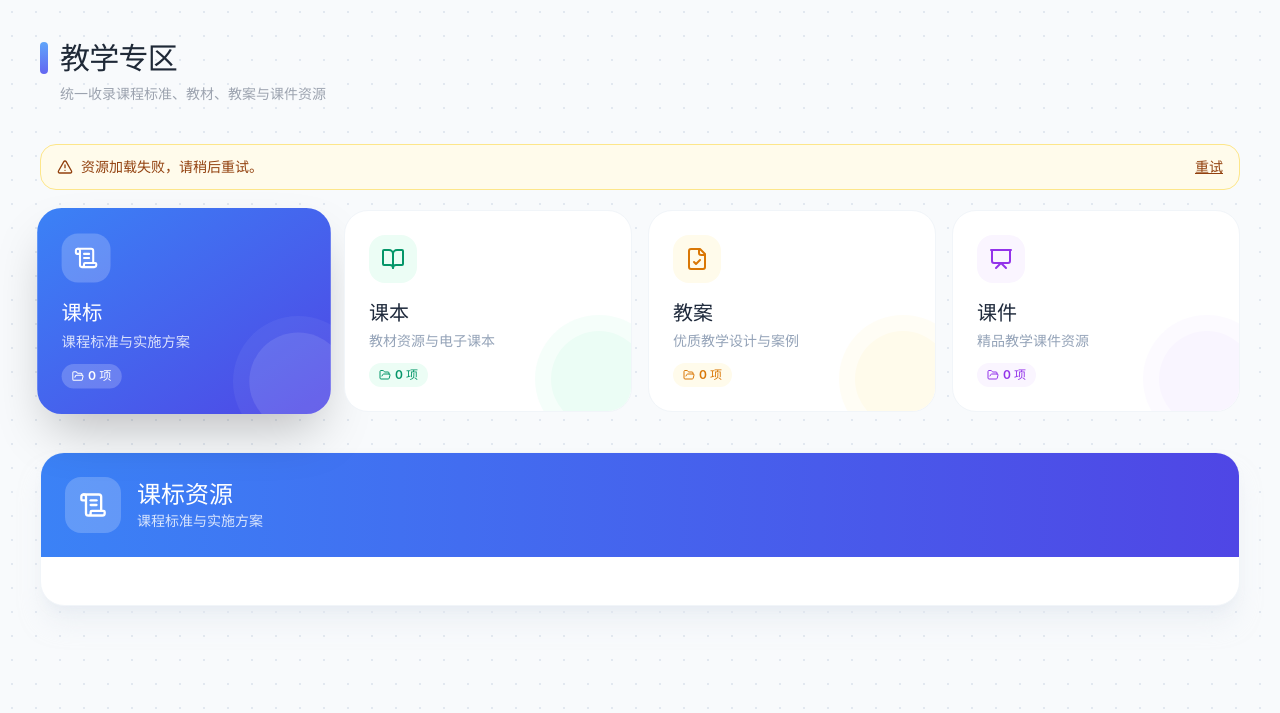
Test case: TeachingZone › distinguishes database failure from an empty catalog and allows retry
The image size is (1280, 713).
Expected: the text "资源加载失败，请稍后重试。" is shown, [81, 157, 263, 177]
Step 1. Click the button "重试" → point(1209, 167), box [1195, 157, 1223, 177]
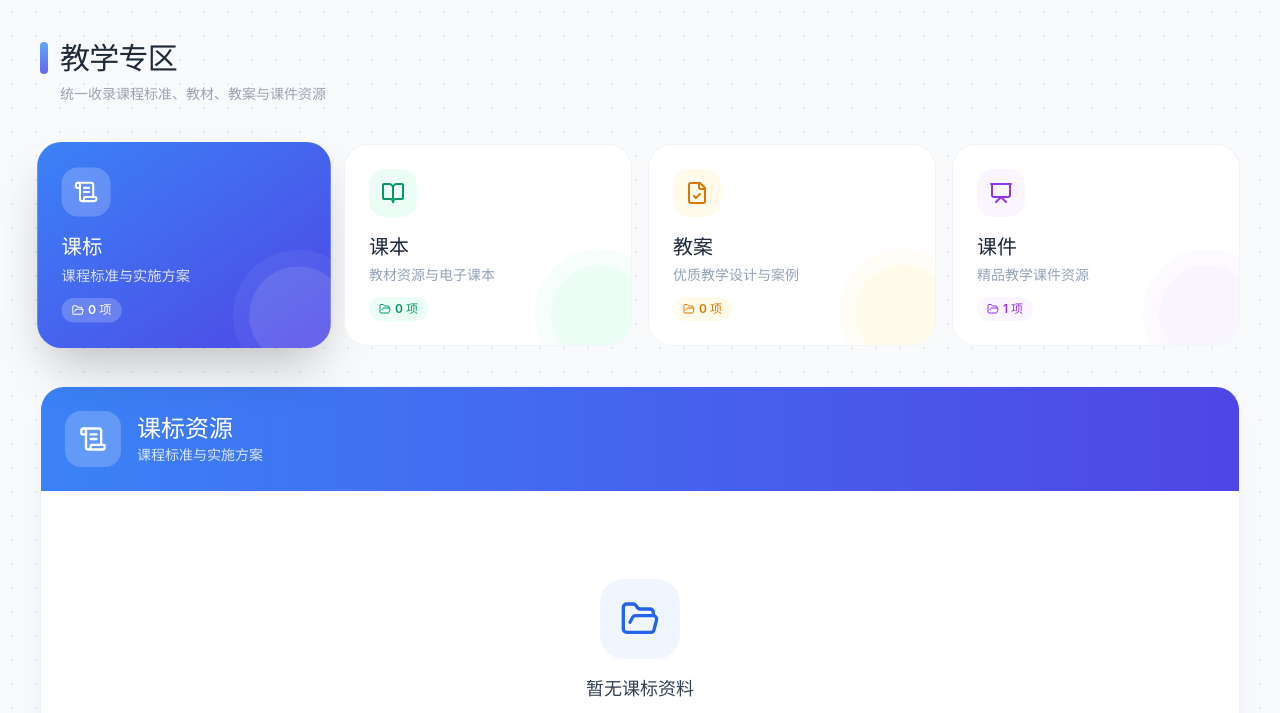
Expected: the text "资源加载失败" is gone
